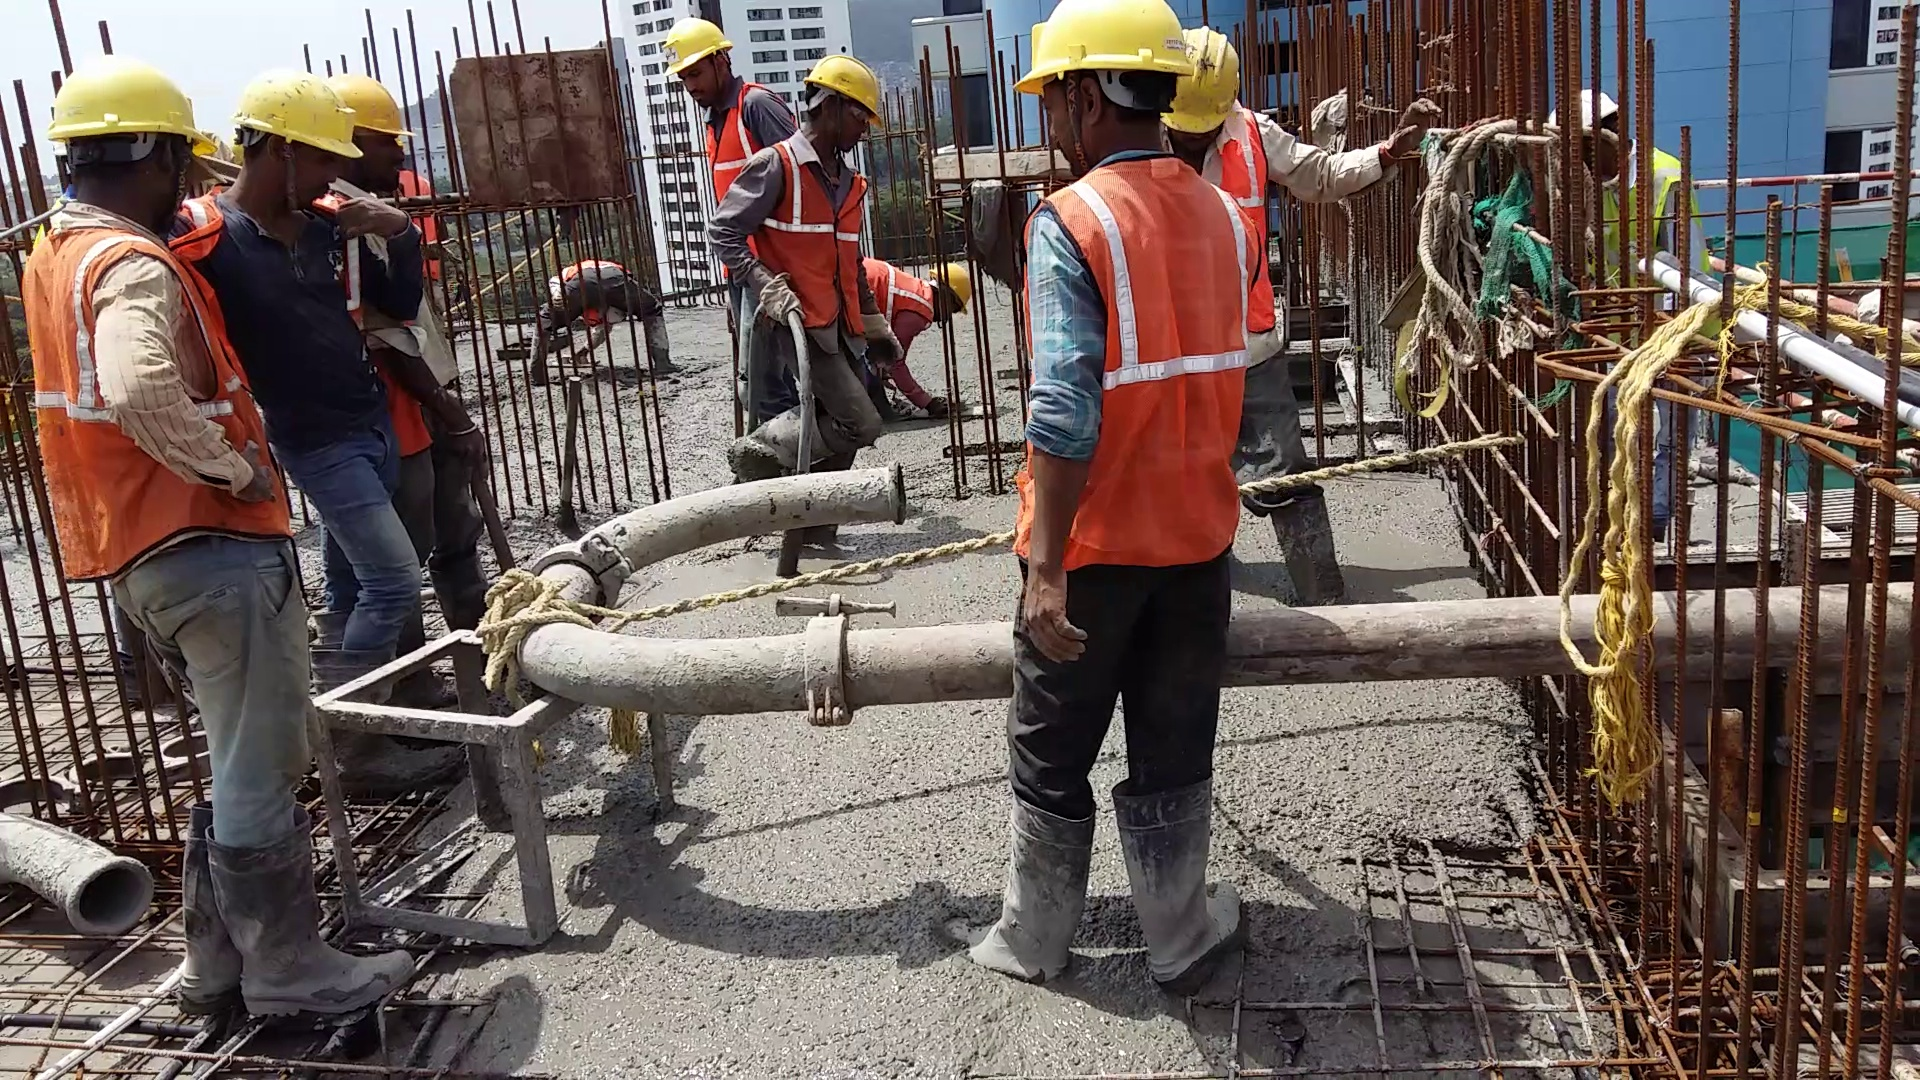NoJacket: (235, 63, 335, 435)
SAFE: (1002, 1, 1236, 563), (28, 49, 228, 542), (758, 61, 881, 330), (667, 15, 753, 204)
